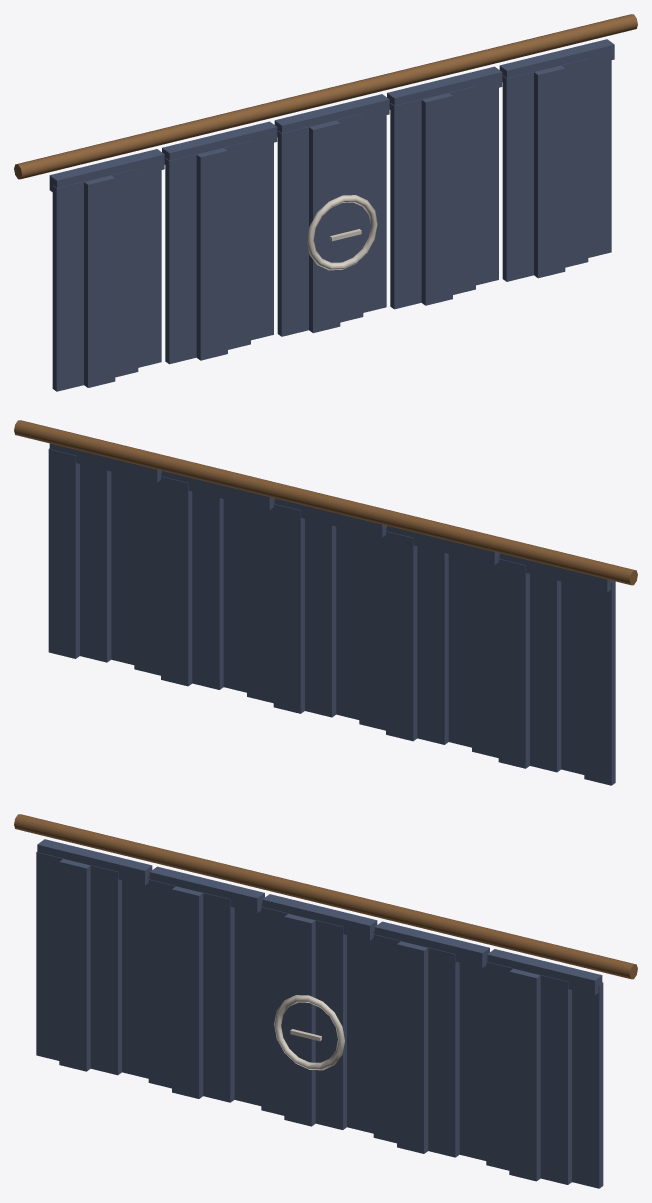
Rendered from komachi-noren.glb.
3 renders of one model, top to bottom at view 1: azimuth 30°, elevation 25°; view 2: azimuth 150°, elevation 25°; view 3: azimuth 330°, elevation 25°, orthographic.
Visible parts, largest first — view 1: Noren; view 2: Noren; view 3: Noren.
Part boxes in pixels (x1=…): Noren: x1=14, y1=14, x2=637, y2=391; Noren: x1=14, y1=420, x2=637, y2=785; Noren: x1=14, y1=814, x2=637, y2=1188.
Size of the model in its own units: 0.52 by 0.183 by 0.0365.
